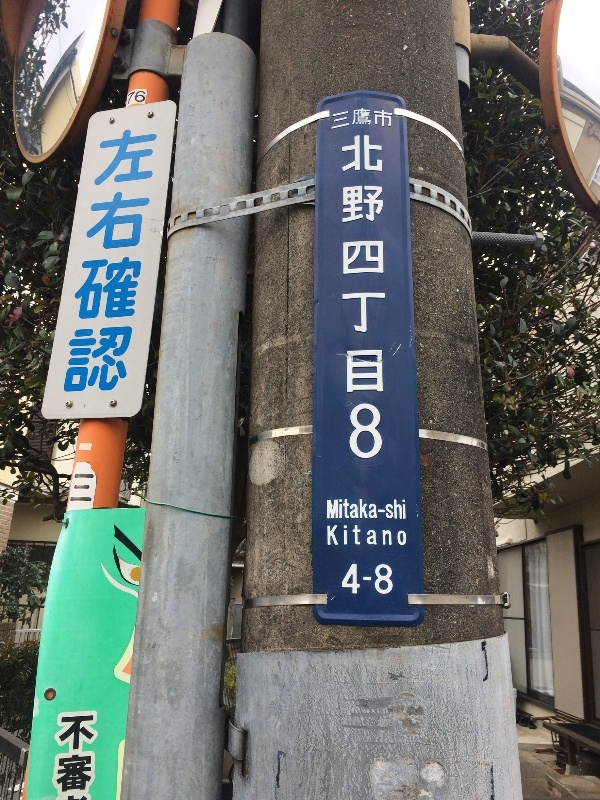text: (353, 134, 368, 459), (369, 134, 384, 459), (113, 128, 128, 399), (129, 128, 144, 399), (145, 128, 159, 399), (342, 134, 352, 459), (101, 128, 112, 399), (65, 714, 80, 794), (81, 714, 96, 794), (385, 134, 388, 459), (353, 565, 368, 595), (369, 565, 384, 595), (81, 475, 95, 506), (337, 106, 352, 130), (353, 106, 368, 130), (369, 106, 384, 130), (337, 525, 352, 546), (353, 525, 368, 546), (369, 525, 384, 546), (385, 525, 400, 546), (337, 500, 352, 519), (353, 500, 368, 519), (369, 500, 384, 519), (385, 500, 400, 519), (61, 714, 64, 794), (385, 565, 393, 595), (129, 89, 144, 105), (385, 106, 393, 130), (327, 525, 336, 546), (327, 500, 336, 519), (75, 475, 80, 506), (401, 525, 406, 546), (332, 106, 336, 130), (401, 500, 406, 519), (145, 89, 147, 105)
